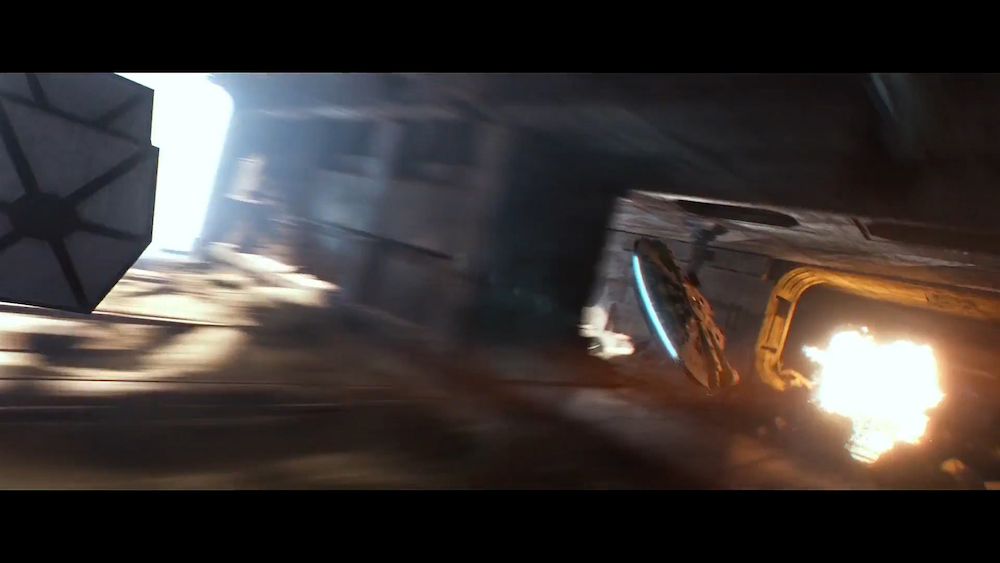Millennium Falcon: (625, 232, 742, 395)
Tie Fighter: (1, 74, 159, 315)
